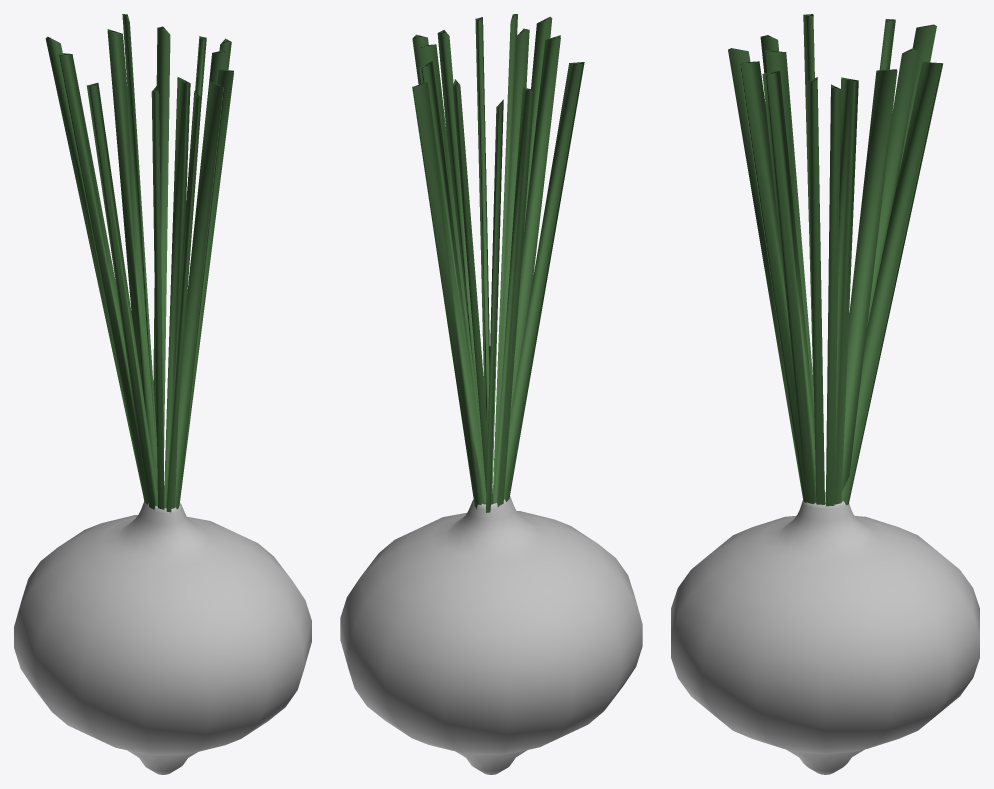
The model's file is Red Onion (Ready).fbx.
3 views of the same model, side by side, from view 1: azimuth 30°, elevation 25°; view 2: azimuth 150°, elevation 25°; view 3: azimuth 270°, elevation 25° (orthographic).
Visible parts, largest first — view 1: Red_Onion_Sprout1; view 2: Red_Onion_Sprout1; view 3: Red_Onion_Sprout1.
Part boxes in pixels (<box>): Red_Onion_Sprout1: <box>14,14,311,774</box>; Red_Onion_Sprout1: <box>340,14,642,774</box>; Red_Onion_Sprout1: <box>671,14,979,774</box>.
Bounding box in the file's own units: 21.51 × 57.47 × 22.37.
